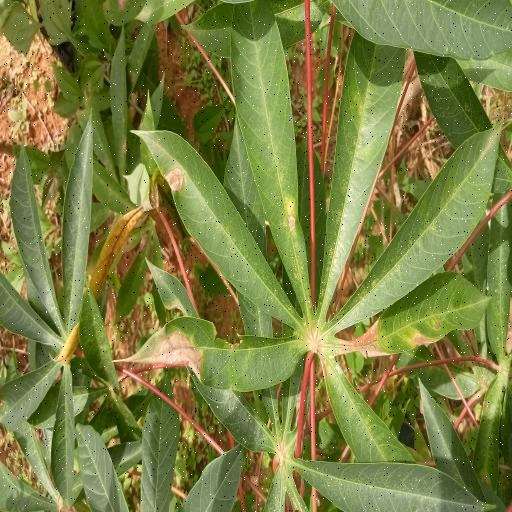Cassava_Bacterial_Disease: (127, 21, 467, 472)
